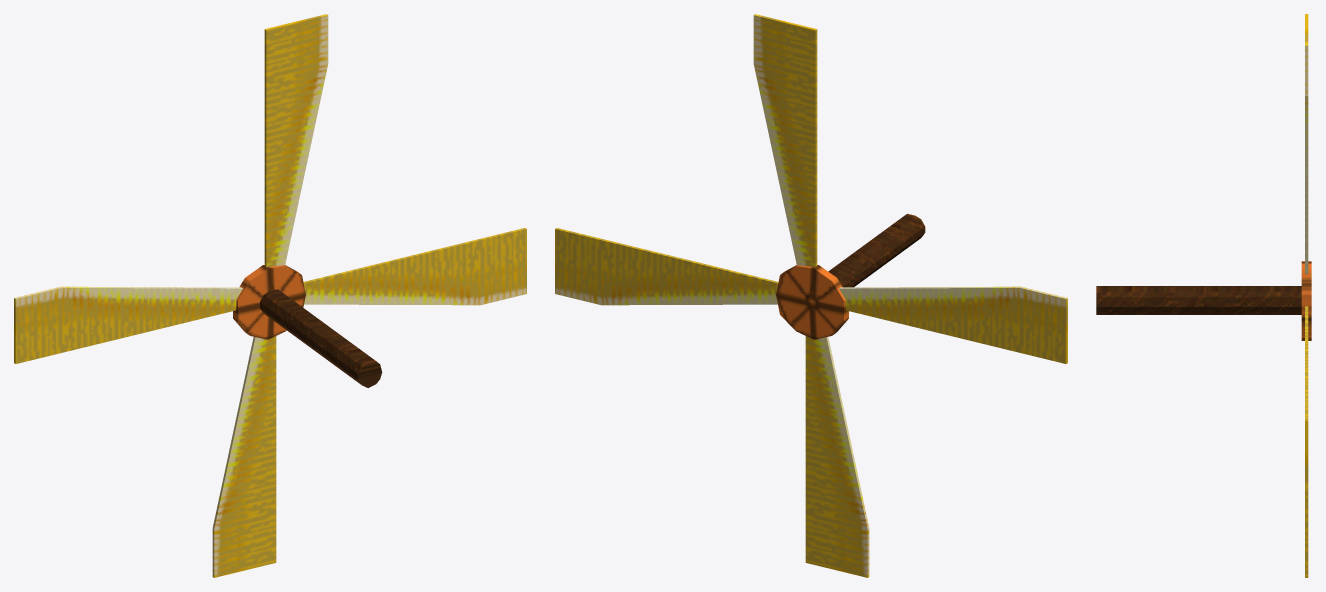
Rendered from GolfFan.glb.
3 views of the same model, side by side, from view 1: azimuth 30°, elevation 25°; view 2: azimuth 150°, elevation 25°; view 3: azimuth 270°, elevation 25° (orthographic). The views are drawn at different scales.
Parts seen in each view (by area): view 1: GolfFan; view 2: GolfFan; view 3: GolfFan.
Part boxes in pixels (<box>): GolfFan: <box>14,14,526,577</box>; GolfFan: <box>555,14,1067,577</box>; GolfFan: <box>1096,14,1311,577</box>.
Bounding box in the file's own units: 219 × 219 × 76.43.
Materials: 1 (1 with a texture image).
